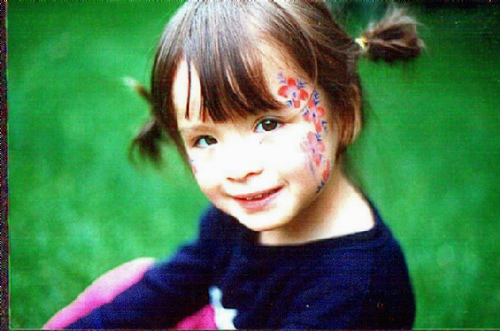without_mask: (147, 2, 381, 239)
